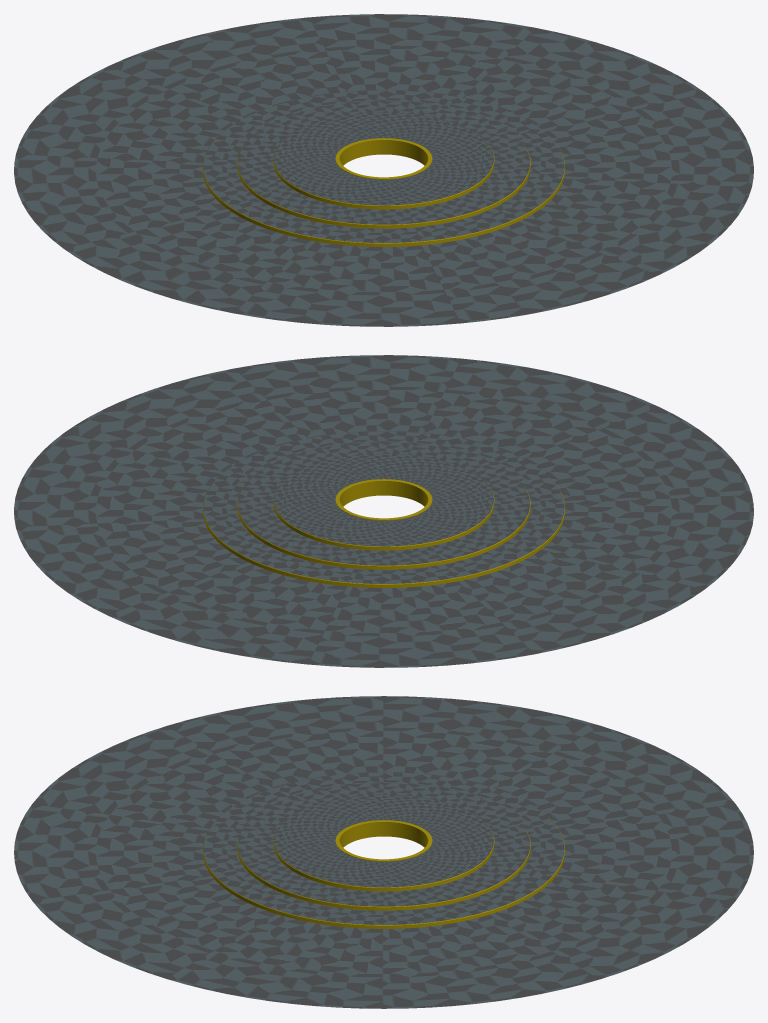
Rendered from OV Floor.fbx.
3 renders of one model, top to bottom at view 1: azimuth 30°, elevation 25°; view 2: azimuth 150°, elevation 25°; view 3: azimuth 270°, elevation 25°, orthographic.
Parts seen in each view (by area): view 1: polySurface223; view 2: polySurface223; view 3: polySurface223.
Boxes of the visible parts, <box> form: polySurface223: <box>14,14,753,326</box>; polySurface223: <box>14,355,753,667</box>; polySurface223: <box>14,696,753,1008</box>.
Bounding box in the file's own units: 1805 × 39.38 × 1805.
2 materials, 1 textured.
